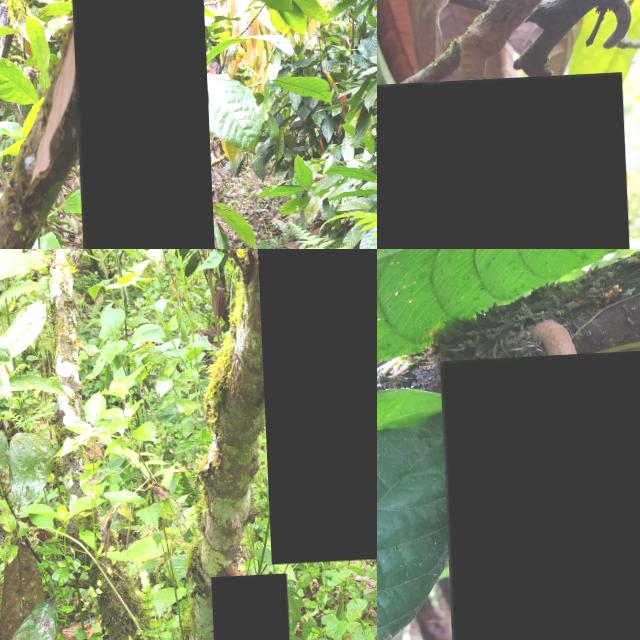Fitoftora: (438, 350, 640, 640), (377, 77, 637, 249), (69, 0, 214, 249)
Sana: (256, 249, 377, 567), (207, 577, 289, 640)
